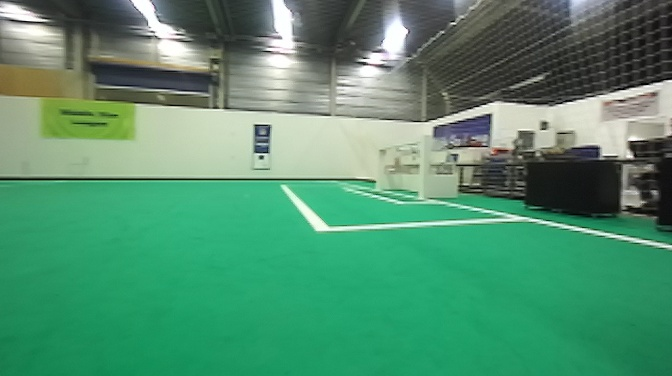goalpost: (369, 139, 397, 200), (414, 134, 433, 204)
